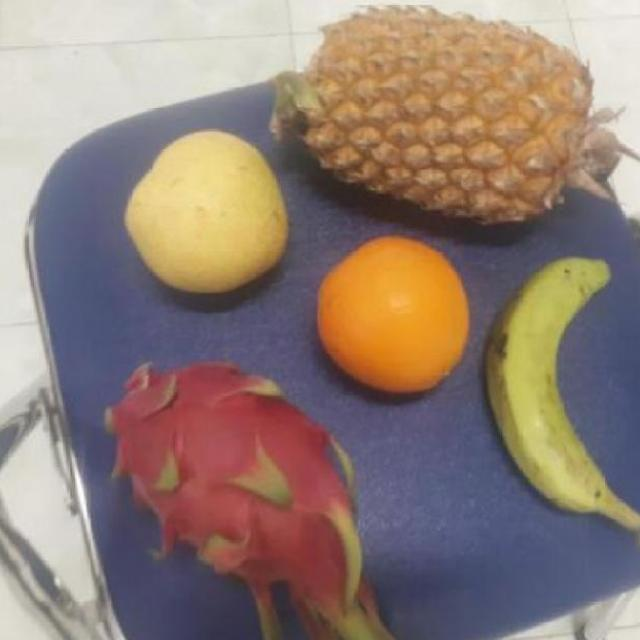banana: (483, 258, 628, 522)
dragon fruit: (94, 359, 378, 615)
guava: (120, 134, 286, 296), (312, 236, 472, 396)
pineapple: (288, 12, 598, 225)
